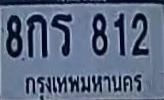1: (114, 13, 125, 56)
2: (131, 12, 149, 55)
8: (92, 12, 108, 56), (5, 14, 21, 56)
A01: (27, 14, 47, 57)
A35: (50, 13, 73, 57)
BKK: (19, 69, 146, 97)
